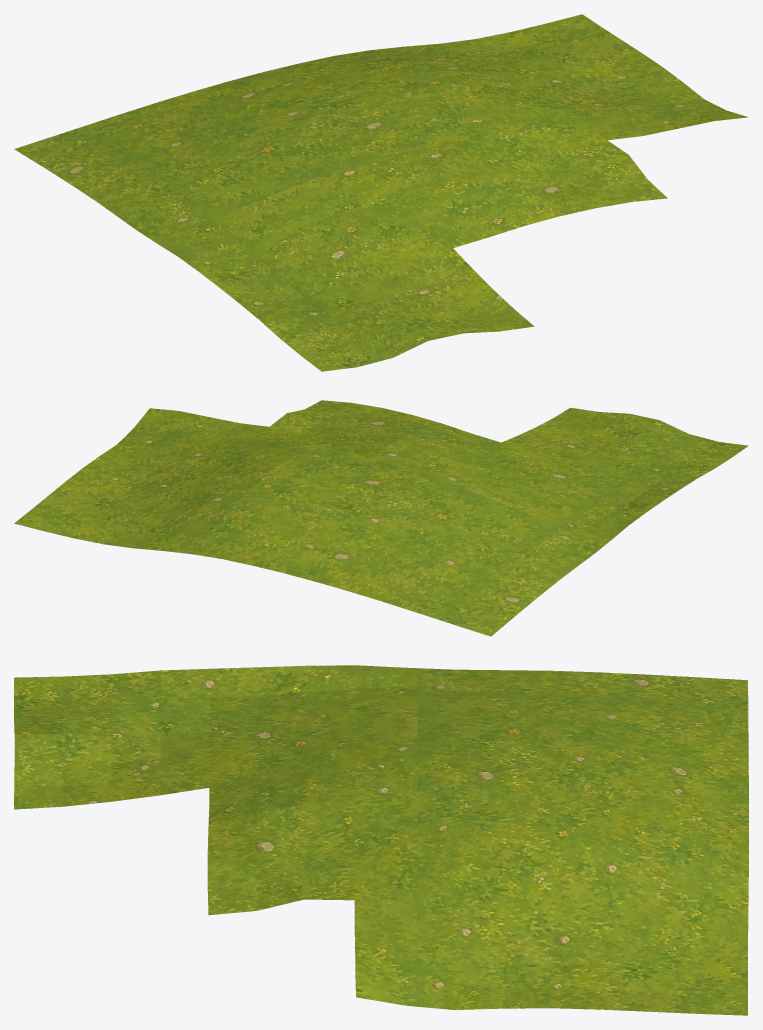
File: Green.fbx
The picture shows the model from 3 angles, top to bottom: view 1: azimuth 30°, elevation 25°; view 2: azimuth 150°, elevation 25°; view 3: azimuth 270°, elevation 25°; orthographic projection. The views are drawn at different scales.
Visible parts, largest first — view 1: Green; view 2: Green; view 3: Green.
Boxes of the visible parts, x1,y1,x2,y2 form: Green: [14, 14, 747, 371]; Green: [14, 400, 748, 636]; Green: [14, 665, 748, 1015].
Size of the model in its own units: 832 by 65.34 by 778.
Materials: 1 (1 with a texture image).
